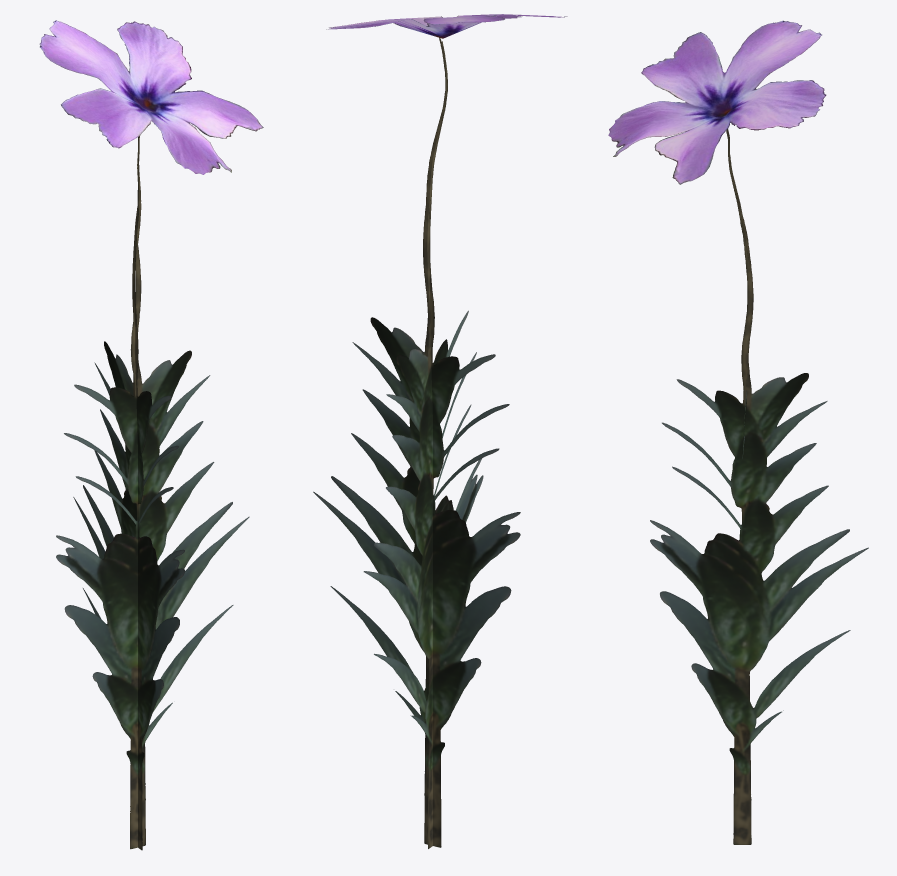
Rendered from Phlox_Sprigs.glb.
3 views of the same model, side by side, from view 1: azimuth 30°, elevation 25°; view 2: azimuth 150°, elevation 25°; view 3: azimuth 270°, elevation 25° (orthographic). The views are drawn at different scales.
Visible parts, largest first — view 1: Phlox_Sprig_01; view 2: Phlox_Sprig_01; view 3: Phlox_Sprig_01.
Boxes of the visible parts, x1,y1,x2,y2 form: Phlox_Sprig_01: (39, 20, 263, 850); Phlox_Sprig_01: (313, 14, 567, 848); Phlox_Sprig_01: (608, 20, 868, 844).
Size of the model in its own units: 0.0747 by 0.2333 by 0.0747.
1 material, 1 textured.
